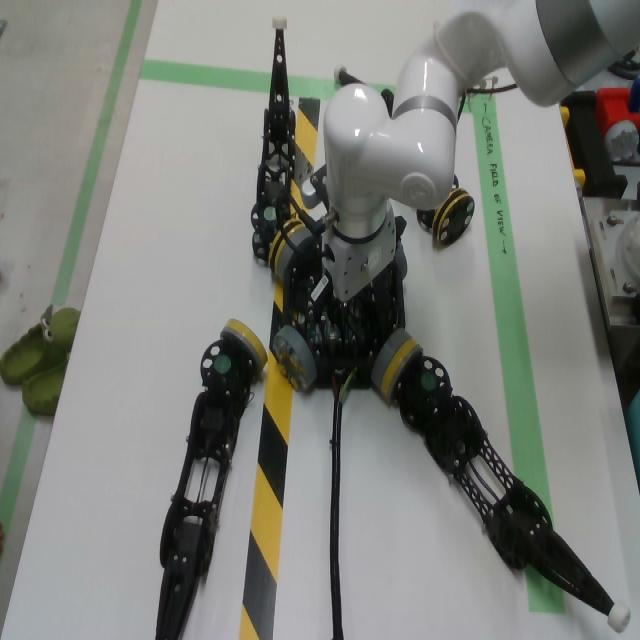body: (284, 236, 406, 388)
body_connector: (273, 325, 317, 392), (371, 328, 412, 391), (276, 244, 295, 280), (289, 227, 314, 251), (395, 237, 408, 280)
gripper: (310, 209, 407, 337)
leg: (381, 340, 632, 635), (155, 319, 268, 640), (250, 15, 304, 273), (416, 175, 476, 245)
leg_connector: (220, 319, 268, 372), (432, 188, 474, 247), (380, 340, 423, 397), (268, 219, 303, 273)
leg_marker: (213, 355, 231, 375), (422, 373, 436, 389), (264, 208, 277, 220)
